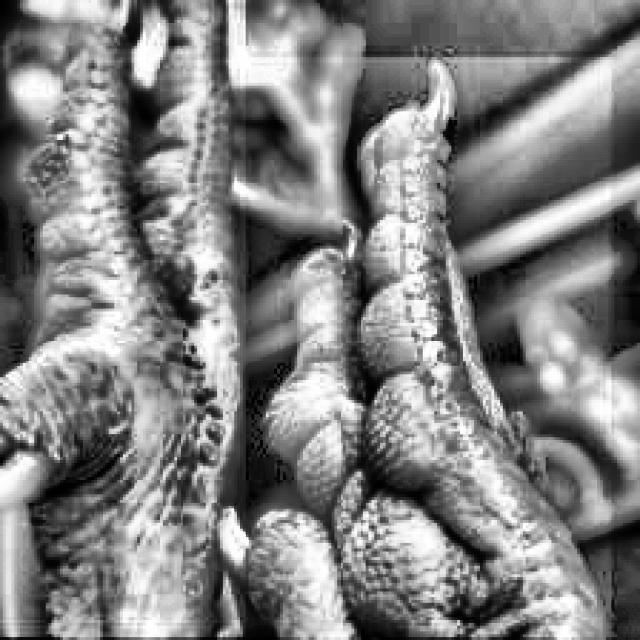Bumble foot: (237, 57, 612, 637), (0, 0, 249, 637)
